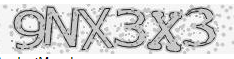3: (182, 7, 218, 48), (113, 8, 148, 49)
9: (12, 9, 46, 52)
N: (44, 5, 79, 49)
X: (77, 7, 115, 51), (146, 9, 183, 54)
